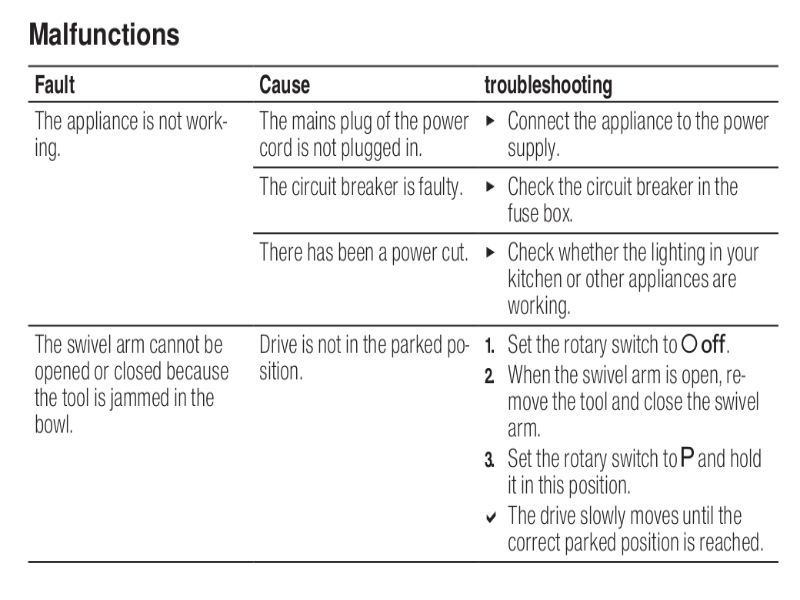borderless: (21, 53, 789, 573)
cell: (480, 332, 782, 558), (480, 238, 782, 320), (29, 332, 238, 439), (479, 170, 779, 227), (482, 108, 777, 162), (254, 332, 475, 389), (256, 107, 475, 161), (33, 107, 233, 161), (256, 172, 466, 209), (254, 238, 473, 272), (479, 70, 629, 98), (251, 69, 328, 97), (31, 71, 93, 96)
